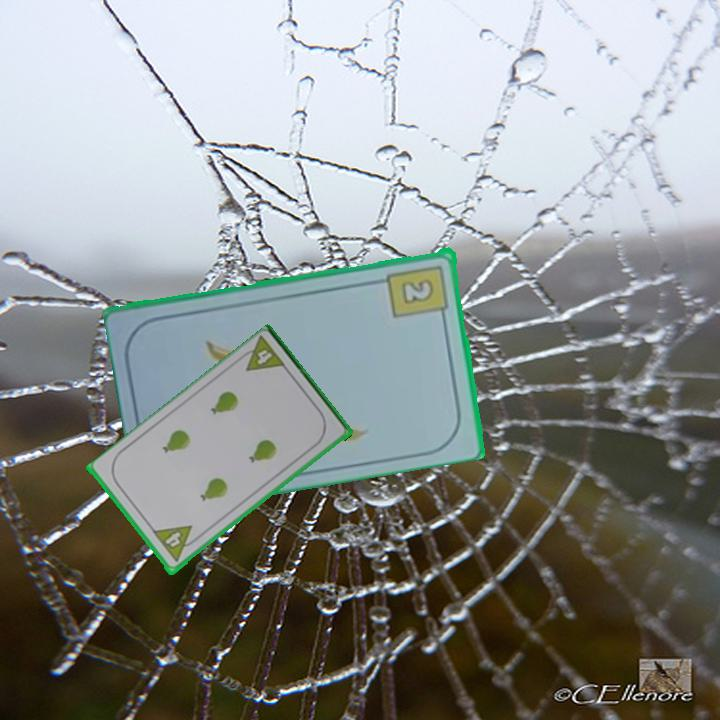2b: (384, 261, 452, 322)
4p: (234, 333, 289, 375), (150, 522, 202, 565)
